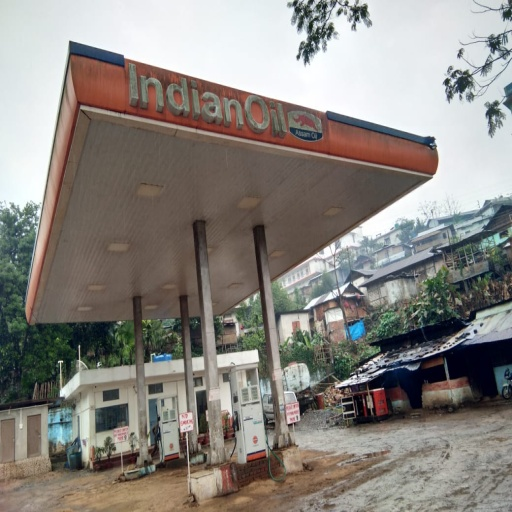roof: (24, 40, 437, 318)
